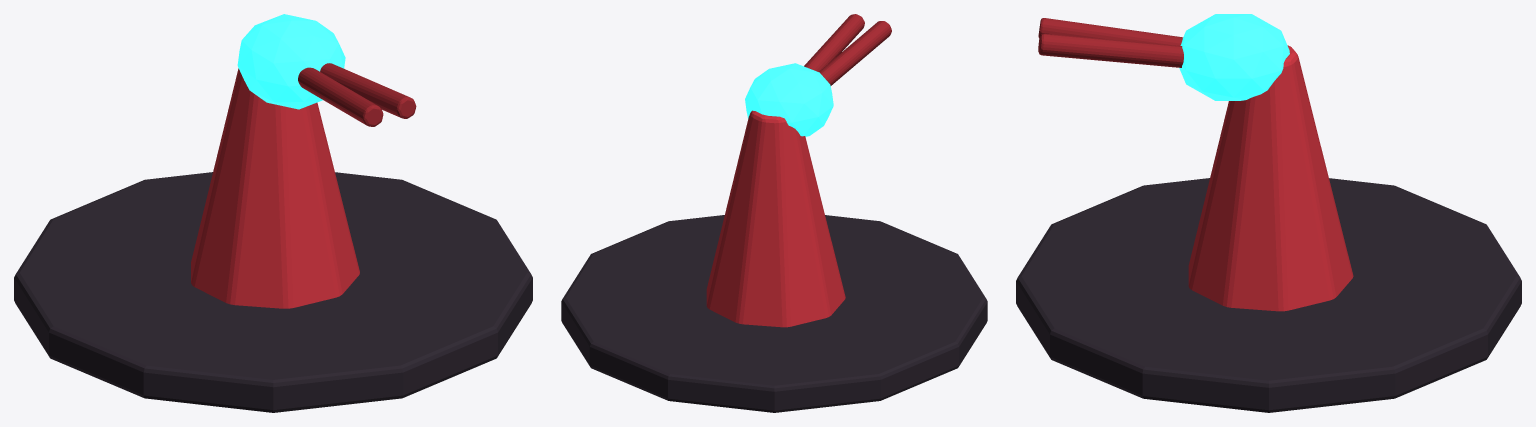
Rendered from alien_gun_turret.glb.
The picture shows the model from 3 angles, left to right: view 1: azimuth 30°, elevation 25°; view 2: azimuth 150°, elevation 25°; view 3: azimuth 270°, elevation 25°; orthographic projection. The views are drawn at different scales.
Parts seen in each view (by area): view 1: Foundation, Stalk, Tracker, EnergyLance, EnergyLance.001; view 2: Foundation, Stalk, Tracker, EnergyLance, EnergyLance.001; view 3: Foundation, Stalk, Tracker, EnergyLance.001, EnergyLance.
Part boxes in pixels (x1,y1,x2,y2): Foundation: (14,172,532,412); Stalk: (191,68,359,308); Tracker: (237,14,345,109); EnergyLance: (298,67,383,126); EnergyLance.001: (320,63,416,118); Foundation: (561,215,987,412); Stalk: (706,110,845,327); Tracker: (745,63,833,136); EnergyLance: (819,21,891,85); EnergyLance.001: (804,14,864,71); Foundation: (1016,178,1521,412); Stalk: (1188,45,1353,311); Tracker: (1179,14,1289,100); EnergyLance.001: (1038,33,1183,67); EnergyLance: (1038,18,1182,45).
Bounding box in the file's own units: 1.72 × 1.09 × 1.72.
